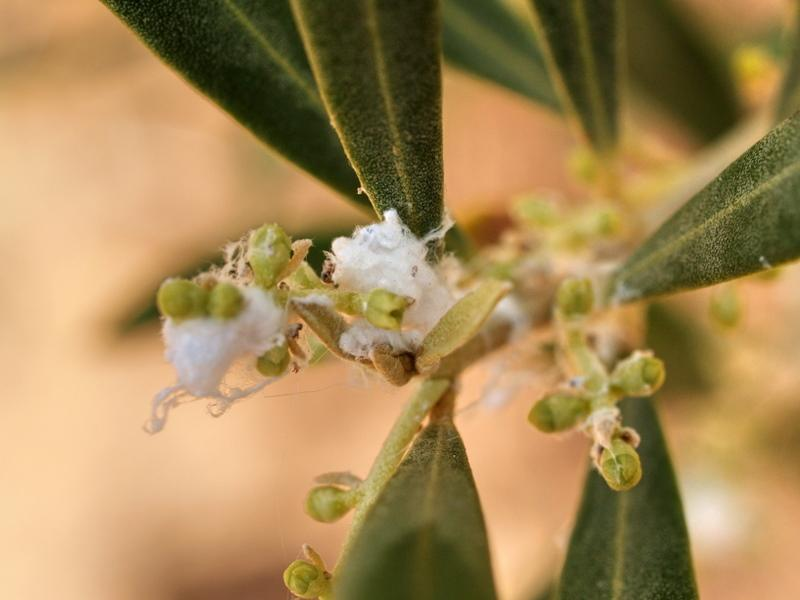Psyllid: (108, 273, 320, 411), (304, 207, 485, 350)
